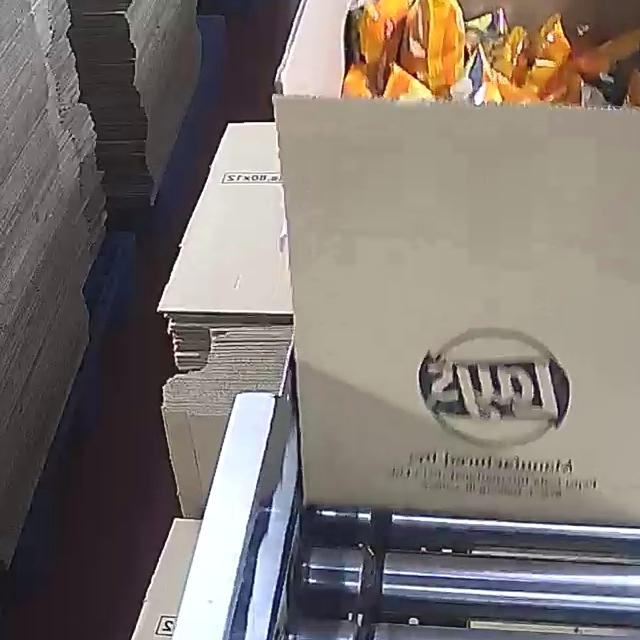cheese: (339, 0, 640, 106)
